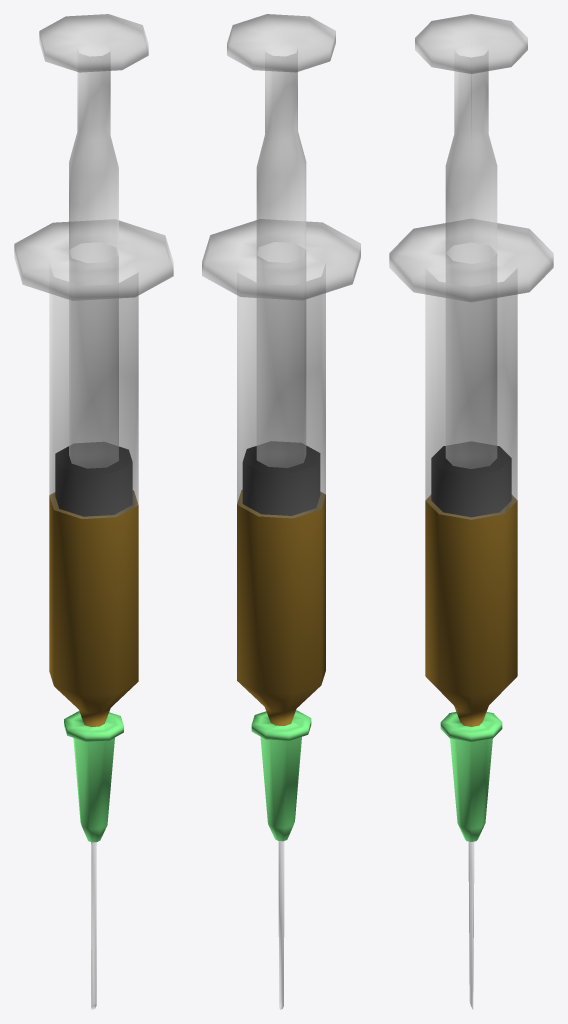
The model's file is 3D_Sibyl202604_Syringe.fbx.
3 renders of one model, left to right at view 1: azimuth 30°, elevation 25°; view 2: azimuth 150°, elevation 25°; view 3: azimuth 270°, elevation 25°, orthographic.
Parts seen in each view (by area): view 1: Syringe.001; view 2: Syringe.001; view 3: Syringe.001.
Part boxes in pixels (x1,y1,x2,y2): Syringe.001: [14, 14, 173, 1009]; Syringe.001: [202, 14, 360, 1009]; Syringe.001: [389, 14, 553, 1009].
Bounding box in the file's own units: 3.57 × 3.57 × 23.25.
